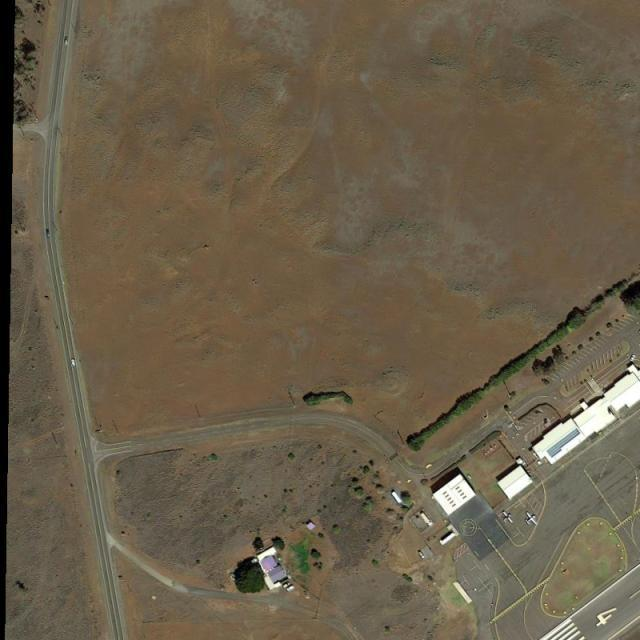vehicle: (285, 585, 295, 594), (418, 550, 426, 560), (70, 358, 77, 369), (282, 581, 291, 589), (534, 410, 543, 417), (64, 36, 70, 46), (630, 354, 636, 362), (543, 418, 547, 428), (46, 229, 50, 238)
